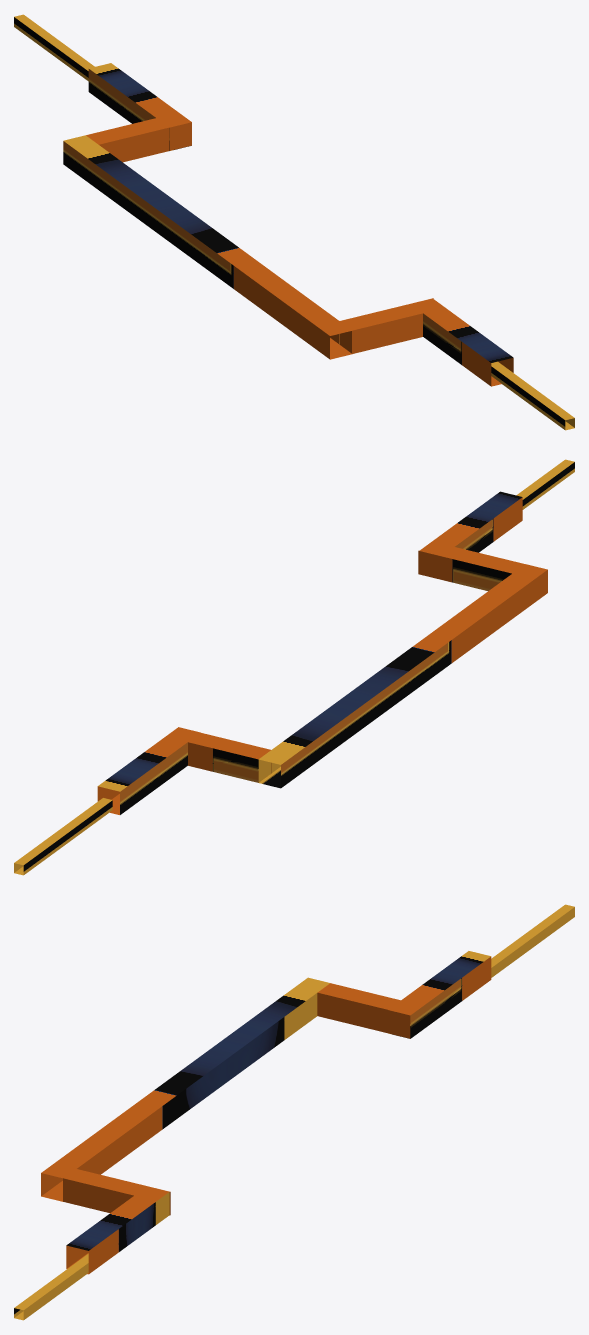
Rendered from deco.fbx.
3 views of the same model, one above another, from view 1: azimuth 30°, elevation 25°; view 2: azimuth 150°, elevation 25°; view 3: azimuth 330°, elevation 25° (orthographic).
Parts seen in each view (by area): view 1: polySurface10; view 2: polySurface10; view 3: polySurface10.
Part boxes in pixels (x1,y1,x2,y2): polySurface10: (14, 14, 574, 430); polySurface10: (14, 459, 574, 875); polySurface10: (14, 904, 574, 1320).
Bounding box in the file's own units: 63.95 × 12.46 × 524.
